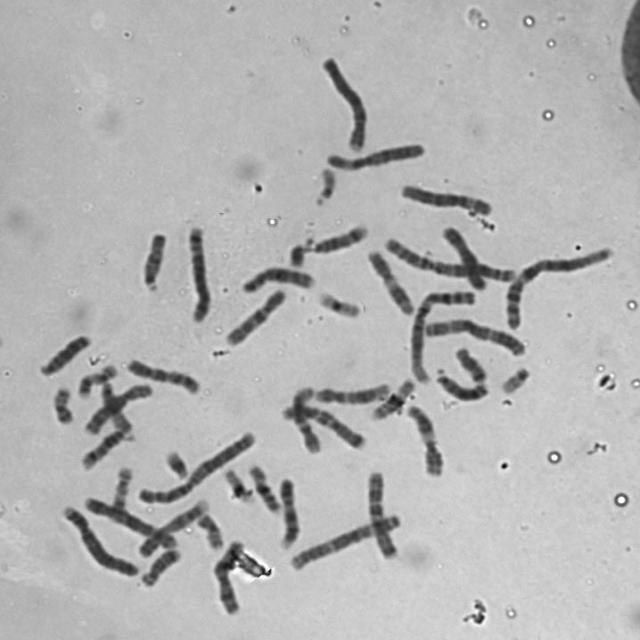A1: (499, 241, 618, 331), (406, 285, 478, 385)
A2: (134, 427, 258, 505), (380, 232, 520, 285)
A3: (285, 509, 405, 573), (420, 314, 528, 359)
B4: (56, 500, 142, 579), (316, 50, 372, 155)
B5: (80, 492, 182, 552), (182, 221, 216, 325)
C10: (220, 282, 291, 348), (121, 353, 203, 397)
C11: (363, 245, 418, 317), (401, 400, 446, 479)
C12: (288, 382, 324, 455), (311, 378, 394, 405)
C6: (321, 137, 427, 173), (396, 179, 496, 217)
C7: (277, 398, 371, 452), (361, 464, 401, 562)
C8: (80, 379, 154, 436), (237, 262, 319, 296)
C9: (131, 495, 211, 559), (275, 473, 303, 551)
D13: (34, 329, 94, 379), (431, 362, 490, 402)
D14: (78, 424, 134, 471), (305, 220, 371, 256)
D15: (136, 227, 170, 295), (96, 378, 134, 435)
E16: (366, 373, 418, 423), (244, 460, 284, 516)
E17: (73, 359, 120, 400), (106, 462, 135, 516)
E18: (136, 544, 184, 589), (450, 342, 489, 384)
F19: (313, 286, 364, 321), (219, 464, 255, 504)
F20: (192, 509, 226, 552), (48, 382, 77, 426)
G21: (160, 446, 192, 480), (283, 237, 312, 270)
G22: (310, 162, 339, 208), (497, 362, 533, 395)
X: (436, 220, 488, 292), (208, 536, 248, 618)
